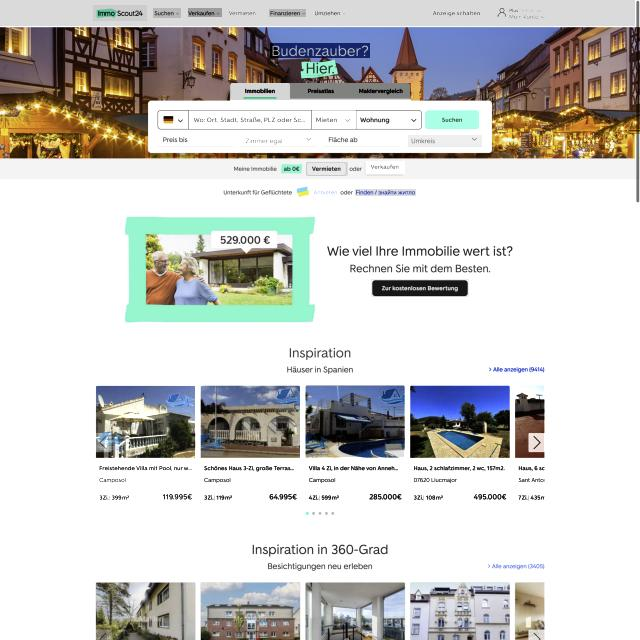CheckBox: (371, 279, 469, 297), (425, 110, 481, 130), (427, 6, 487, 21), (487, 364, 545, 375), (306, 162, 348, 176), (366, 162, 405, 176), (355, 189, 416, 196), (313, 188, 338, 196)
CheckedTextView: (189, 110, 311, 129)
Spinner: (304, 384, 404, 506), (201, 384, 301, 505), (96, 385, 196, 505)
Switch: (94, 383, 549, 521)
alert: (357, 110, 422, 130), (408, 135, 482, 147), (244, 134, 315, 146), (312, 110, 356, 129), (498, 6, 548, 22), (158, 111, 188, 129), (188, 8, 222, 17), (228, 9, 265, 17), (269, 9, 306, 17), (153, 8, 181, 18), (314, 9, 348, 17)
bag: (0, 0, 635, 26)
breadcrumbs: (326, 240, 516, 262), (285, 342, 353, 362)
copy: (201, 386, 301, 458), (96, 386, 195, 458), (306, 385, 404, 457)
date picker: (93, 5, 147, 21)
icon: (230, 84, 411, 102)
image: (270, 43, 370, 58)
